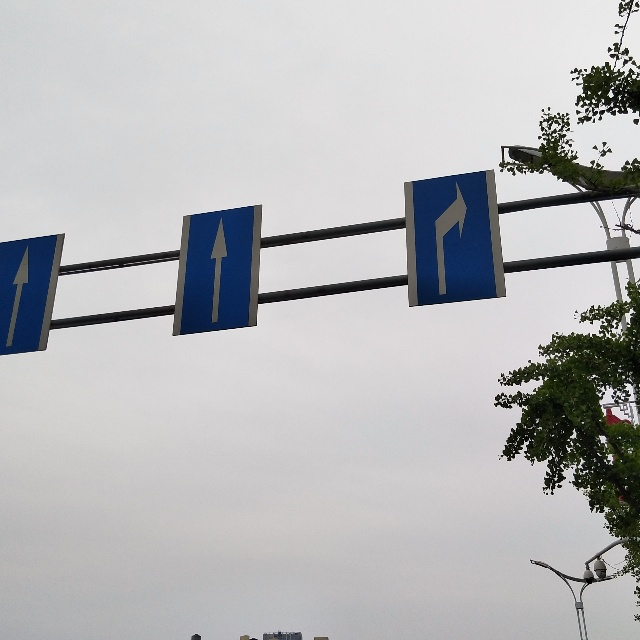right: (416, 179, 500, 298)
straight: (186, 213, 250, 325), (1, 241, 41, 350)
